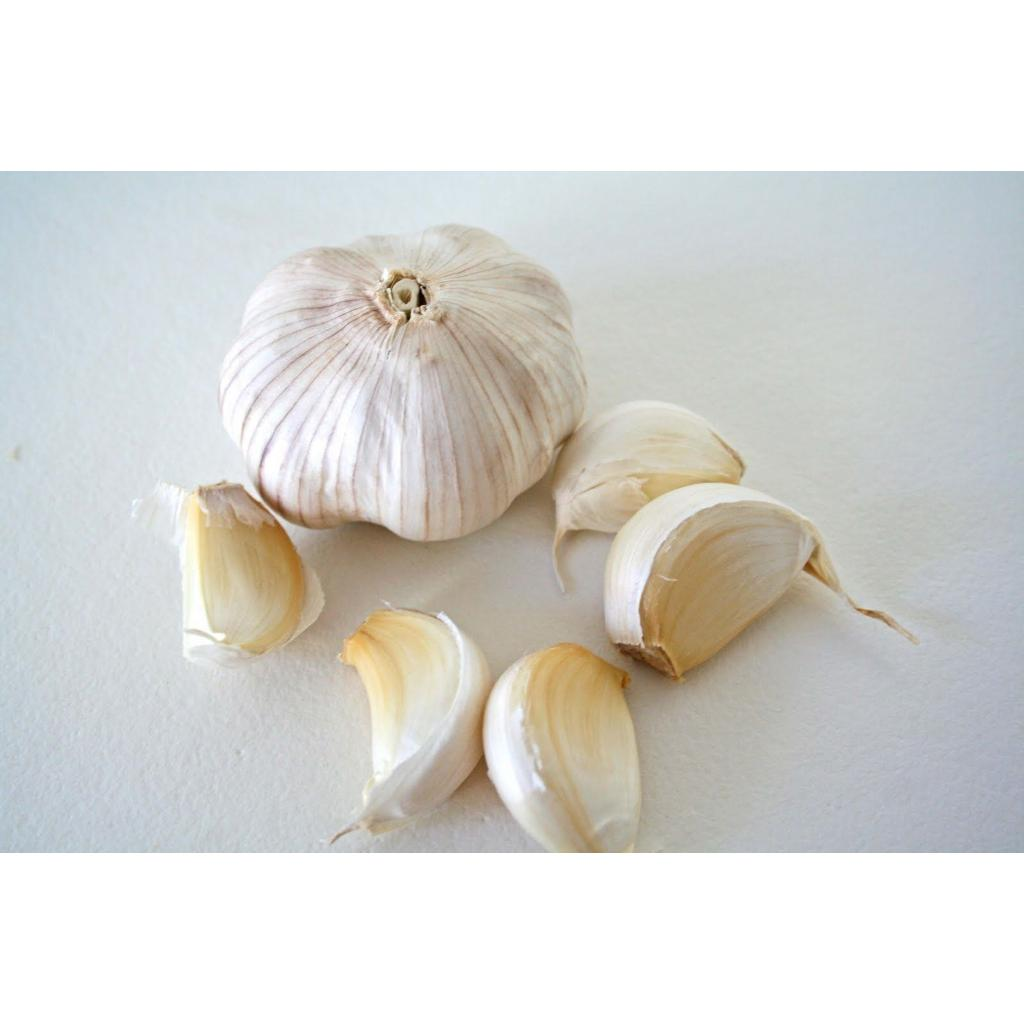garlic: (219, 224, 585, 540), (604, 483, 916, 679), (331, 609, 490, 841), (552, 400, 744, 590), (132, 481, 323, 666), (483, 643, 640, 852)
